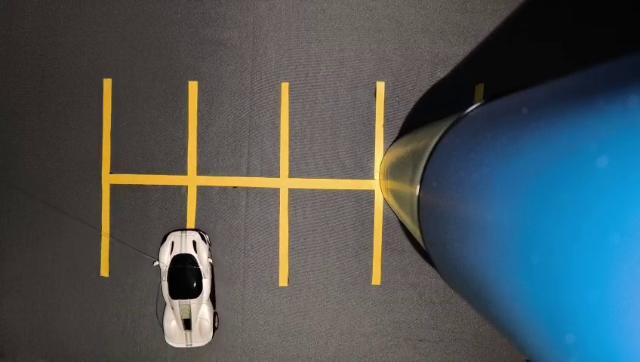toy_car: (144, 206, 259, 361)
